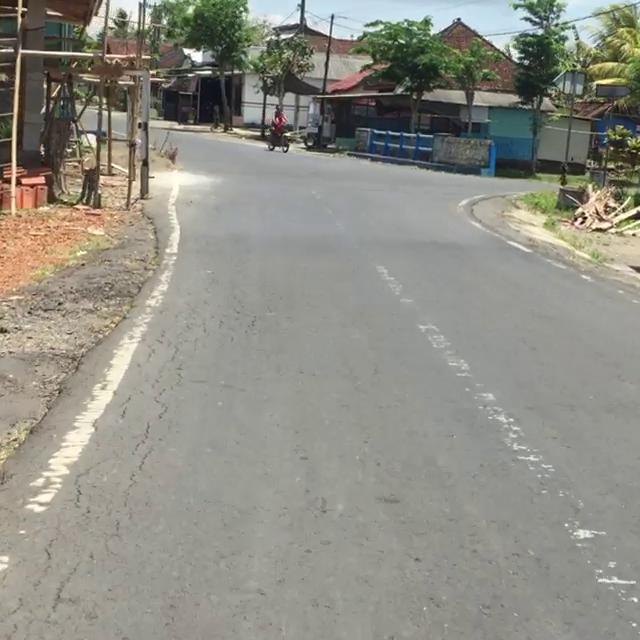retak_kulit_buaya: (41, 310, 213, 580)
